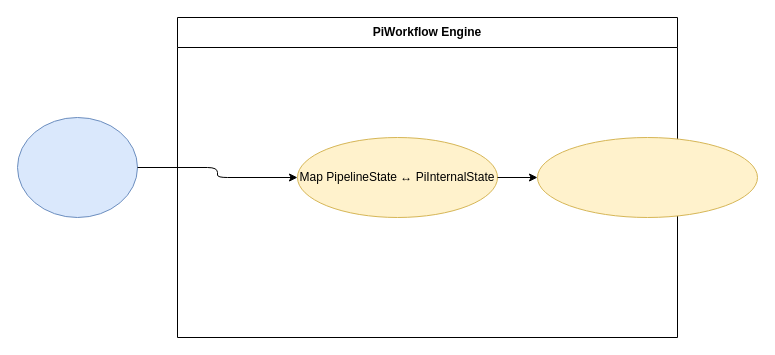
Image size: 775x355. Some labels were removed from this diagram. The centre of each missing label's shape, as x and y in pixels:
"Developer" goes at point 77,167.
"Persist State via RemoteCheckpointer" goes at point 647,177.
